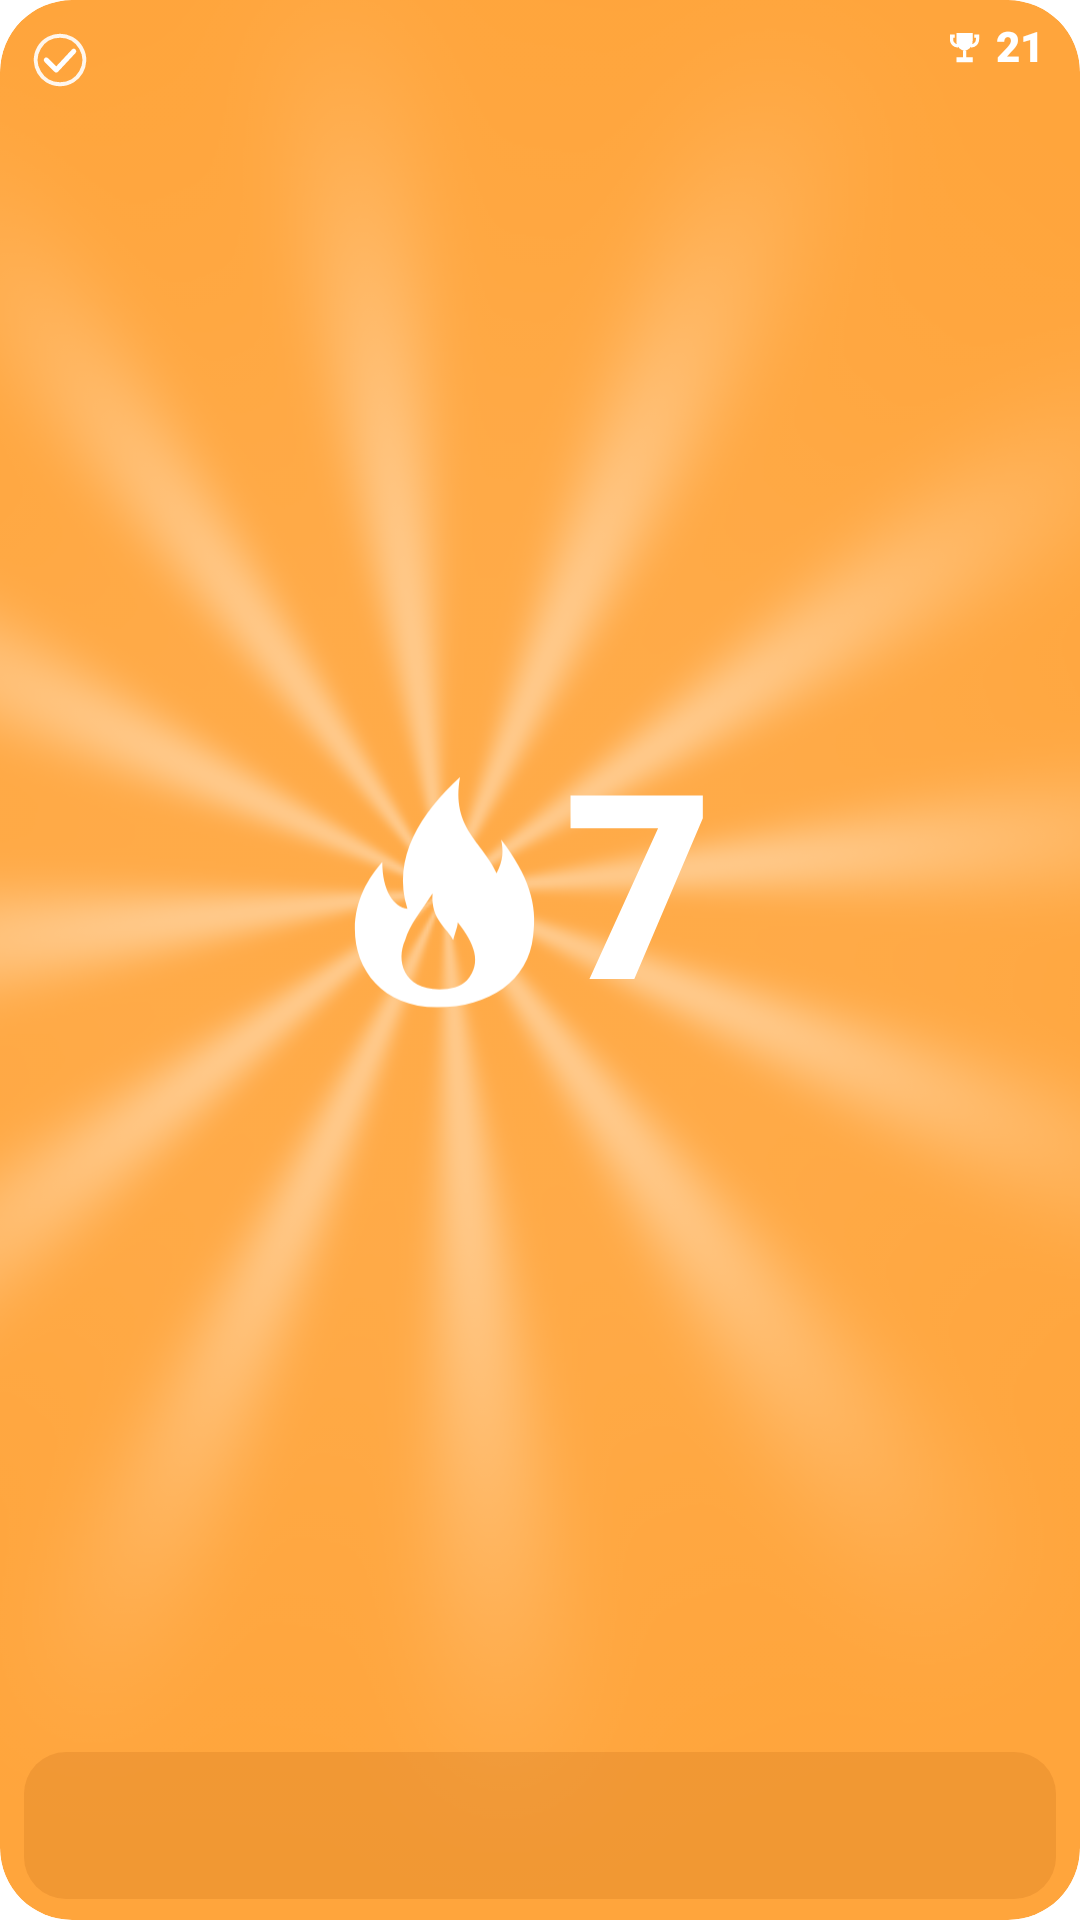

Icon bounding boxes for this 1080x1920 phone screenshot, format (x1, y1, x2, y2):
streak widget check: (33, 33, 87, 87)
streak widget trophy: (950, 33, 980, 63)
